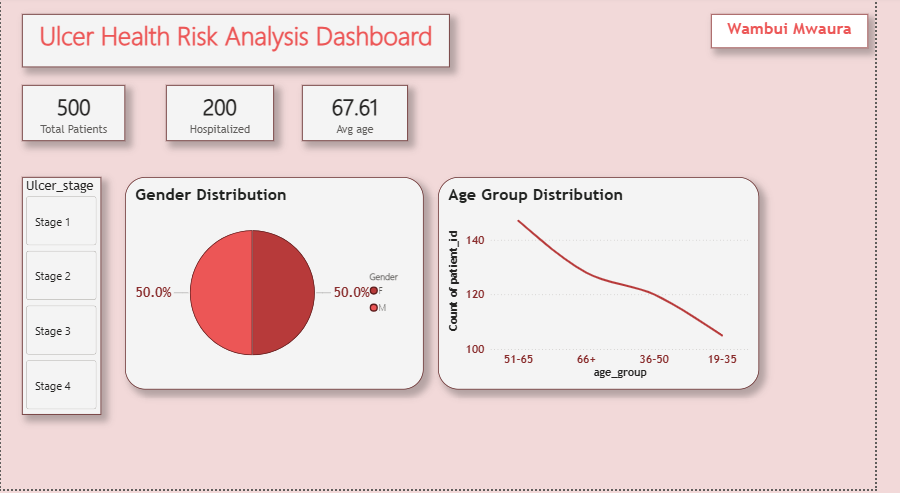

The page's visual inventory and layout, read from the dashboard file:
{"tool":"powerbi","page":{"name":"Overview","canvas":[1280,720],"ordinal":0},"visuals":[{"type":"card","fields":{"Values":["CountNonNull(ulcer_cleaned_data.patient_id)"]},"box":[30.2,129.3,151.2,82.3],"z":0},{"type":"pieChart","title":"Gender Distribution","fields":{"Category":["ulcer_cleaned_data.sex"],"Y":["CountNonNull(ulcer_cleaned_data.patient_id)"]},"box":[181.4,263.7,436.7,310.8],"z":1000},{"type":"advancedSlicerVisual","fields":{"Values":["Ulcer Image Dataset.Ulcer_stage"]},"box":[30.7,263.4,115.6,348.3],"z":2000},{"type":"lineChart","title":"Age Group Distribution","fields":{"Category":["ulcer_cleaned_data.age_group"],"Y":["CountNonNull(ulcer_cleaned_data.patient_id)"]},"box":[640,263.7,470.3,310.8],"z":3000},{"type":"card","fields":{"Values":["CountNonNull(ulcer_cleaned_data.hospitalization_required)"]},"box":[241.9,129.3,157.9,82.3],"z":4000},{"type":"card","fields":{"Values":["Avg(ulcer_cleaned_data.age)"]},"box":[440.1,129.3,154.5,82.3],"z":5000},{"type":"textbox","box":[30.7,24.9,626.3,77.6],"z":6000},{"type":"textbox","box":[1039,24.9,229.8,49.8],"z":6001}]}

Visuals, with their boxes in screenshot pixels (x1, y1, x2, y2), scaled from the page's 1280x720 canvas onto the 900x493 screenshot:
card - CountNonNull(ulcer_cleaned_data.patient_id): 21 89 128 145
"Gender Distribution" pieChart: 128 181 435 393
advancedSlicerVisual - Ulcer Image Dataset.Ulcer_stage: 22 180 103 419
"Age Group Distribution" lineChart: 450 181 781 393
card - CountNonNull(ulcer_cleaned_data.hospitalization_required): 170 89 281 145
card - Avg(ulcer_cleaned_data.age): 309 89 418 145
textbox: 22 17 462 70
textbox: 731 17 892 51
